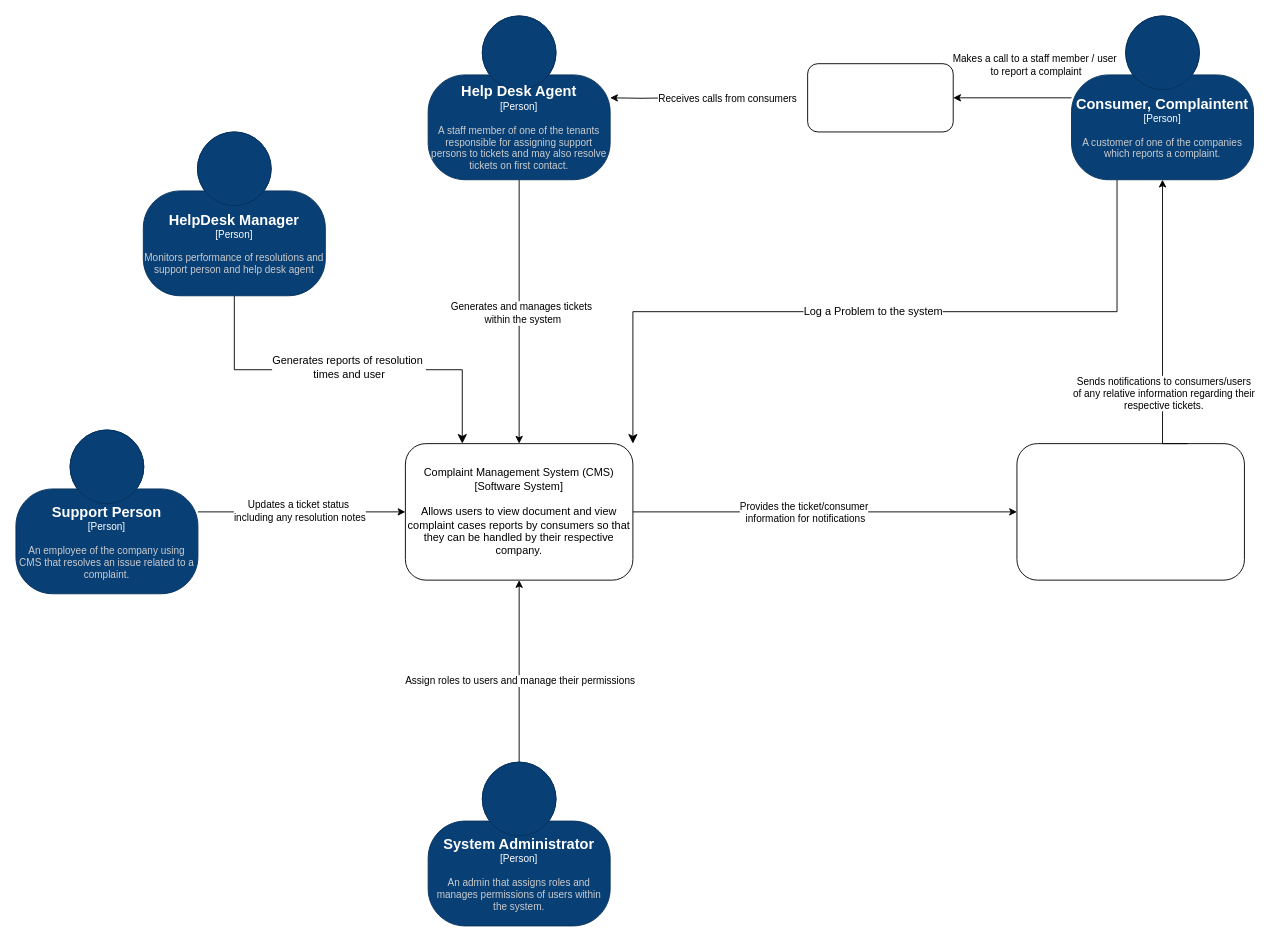
This 1273x942 diagram has some shape labels left out. Each missing label, with the box of its shape:
Email Service [Software System] Email service provider.: (1016, 443, 1244, 580)
Phone Service [Software System]: (807, 63, 953, 132)
